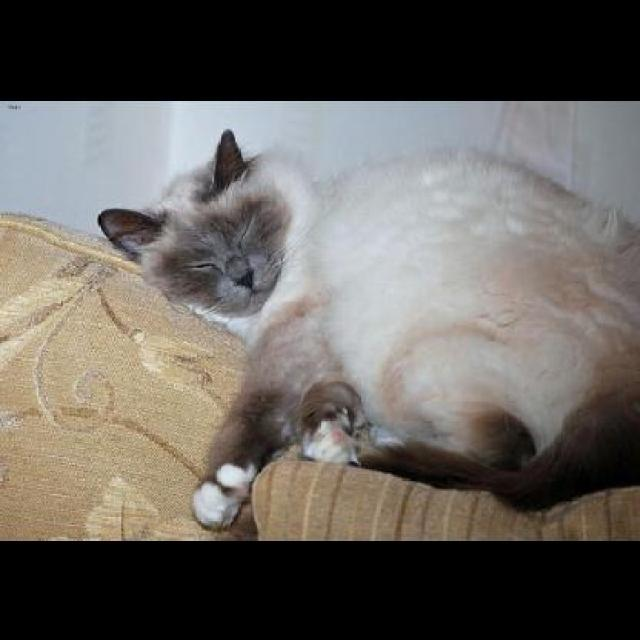unauthorized: (96, 126, 638, 529)
